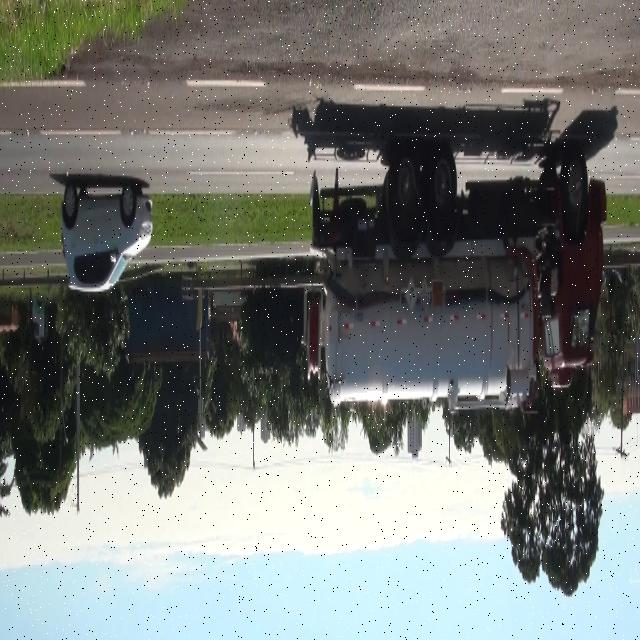-axle: (424, 146, 460, 230), (562, 139, 590, 227), (394, 144, 421, 226)
